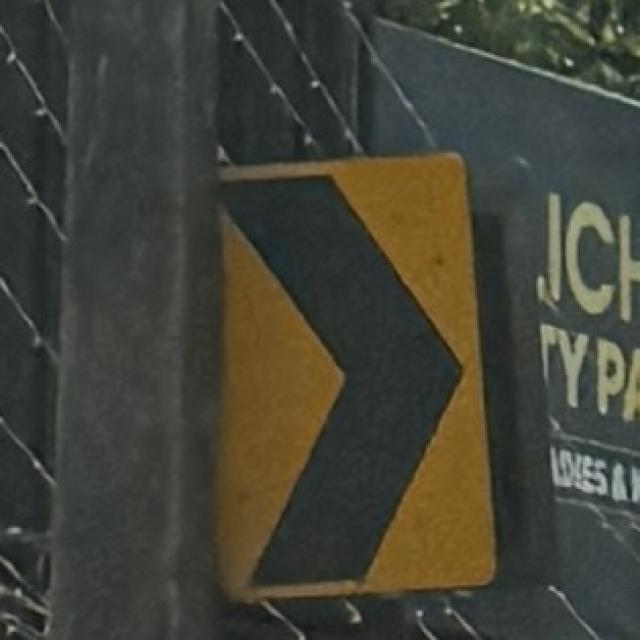TURN_RIGHT: (209, 146, 501, 608)
